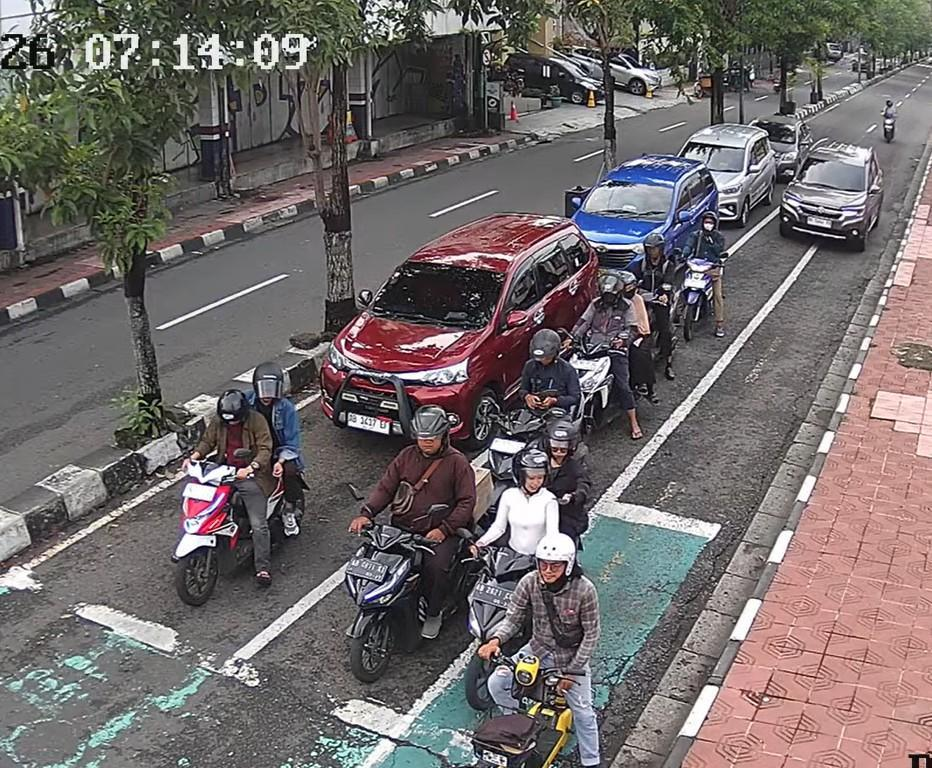Helmet: (535, 533, 576, 575), (514, 448, 548, 486), (411, 405, 449, 438), (252, 362, 284, 399), (546, 419, 578, 453), (216, 390, 248, 423), (530, 329, 559, 359), (598, 272, 623, 304), (643, 232, 665, 257), (619, 271, 636, 295), (700, 210, 718, 226), (886, 98, 892, 105)
Number Plate: (472, 582, 510, 608), (346, 558, 387, 582), (347, 413, 390, 434), (182, 482, 216, 501), (490, 438, 524, 454), (480, 750, 507, 767), (573, 358, 602, 370), (807, 217, 831, 228)
Rearview Mirror: (505, 310, 528, 328), (346, 482, 364, 500), (357, 289, 373, 309), (233, 448, 253, 460), (677, 211, 691, 223), (748, 163, 762, 174), (571, 196, 582, 209), (870, 183, 881, 193)
